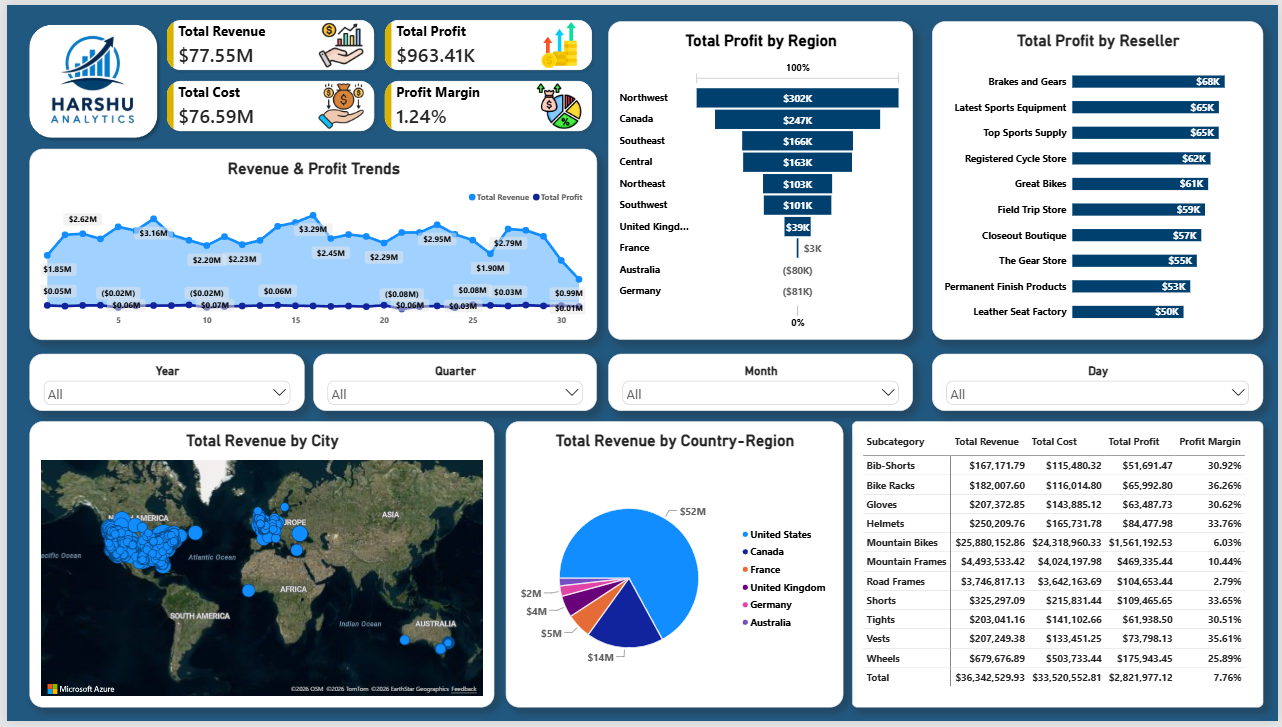

The page's visual inventory and layout, read from the dashboard file:
{"tool":"powerbi","page":{"name":"DashBoard","canvas":[1920,1080],"ordinal":0},"visuals":[{"type":"cardVisual","fields":{"Data":["_Measures.Total Revenue","_Measures.Total Profit","_Measures.Total Cost","_Measures.Profit Margin"]},"box":[235.5,17.4,655.8,191.9],"z":0},{"type":"slicer","title":"Year","fields":{"Values":["Calendar.Date.Variation.Date Hierarchy.Year"]},"box":[34,526.4,415.1,86.8],"z":1000},{"type":"lineChart","title":"Revenue & Profit Trends","fields":{"Category":["Calendar.Date.Variation.Date Hierarchy.Year","Calendar.Date.Variation.Date Hierarchy.Quarter","Calendar.Date.Variation.Date Hierarchy.Month","Calendar.Date.Variation.Date Hierarchy.Day"],"Y":["_Measures.Total Revenue","_Measures.Total Profit"]},"box":[34,217,856.6,288.7],"z":2000},{"type":"azureMap","fields":{"Category":["Reseller.City"],"Size":["_Measures.Total Revenue"]},"box":[34,628.3,701.9,432.1],"z":3000},{"type":"pivotTable","fields":{"Rows":["Product.Category","Product.Subcategory"],"Values":["_Measures.Total Revenue","_Measures.Total Cost","_Measures.Total Profit","_Measures.Profit Margin"]},"box":[1275.5,628.3,620.8,432.1],"z":4000},{"type":"clusteredBarChart","title":"Total Profit by Reseller","fields":{"Category":["Reseller.Reseller"],"Y":["_Measures.Total Profit"]},"box":[1396.2,24.5,500,481.1],"z":5000},{"type":"shape","box":[24.5,20.8,211.3,188.7],"z":6000},{"type":"image","box":[52.8,39.6,149.1,145.3],"z":7000},{"type":"pieChart","fields":{"Category":["Reseller.Country-Region"],"Y":["_Measures.Total Revenue"]},"box":[752.8,628.3,509.4,432],"z":8000},{"type":"funnel","fields":{"Category":["Region.Region"],"Y":["_Measures.Total Profit"]},"box":[907.5,24.5,460.4,481.1],"z":9000},{"type":"slicer","title":"Month","fields":{"Values":["Calendar.Date.Variation.Date Hierarchy.Month"]},"box":[907.5,526.4,460.4,86.8],"z":10000},{"type":"slicer","title":"Day","fields":{"Values":["Calendar.Date.Variation.Date Hierarchy.Day"]},"box":[1396.2,526.4,500,86.8],"z":11000},{"type":"slicer","title":"Quarter","fields":{"Values":["Calendar.Date.Variation.Date Hierarchy.Quarter"]},"box":[462.3,526.4,428.3,86.8],"z":11001}]}

Visuals, with their boxes in screenshot pixels (x1, y1, x2, y2), scaled from the page's 1920x1080 canvas onto the 1282x727 screenshot:
cardVisual - _Measures.Total Revenue x _Measures.Total Profit: (x1=157, y1=12, x2=595, y2=141)
"Year" slicer: (x1=23, y1=354, x2=300, y2=413)
"Revenue & Profit Trends" lineChart: (x1=23, y1=146, x2=595, y2=340)
azureMap - Reseller.City x _Measures.Total Revenue: (x1=23, y1=423, x2=491, y2=714)
pivotTable - Product.Category x Product.Subcategory: (x1=852, y1=423, x2=1266, y2=714)
"Total Profit by Reseller" clusteredBarChart: (x1=932, y1=16, x2=1266, y2=340)
shape: (x1=16, y1=14, x2=157, y2=141)
image: (x1=35, y1=27, x2=135, y2=124)
pieChart - Reseller.Country-Region x _Measures.Total Revenue: (x1=503, y1=423, x2=843, y2=714)
funnel - Region.Region x _Measures.Total Profit: (x1=606, y1=16, x2=913, y2=340)
"Month" slicer: (x1=606, y1=354, x2=913, y2=413)
"Day" slicer: (x1=932, y1=354, x2=1266, y2=413)
"Quarter" slicer: (x1=309, y1=354, x2=595, y2=413)
